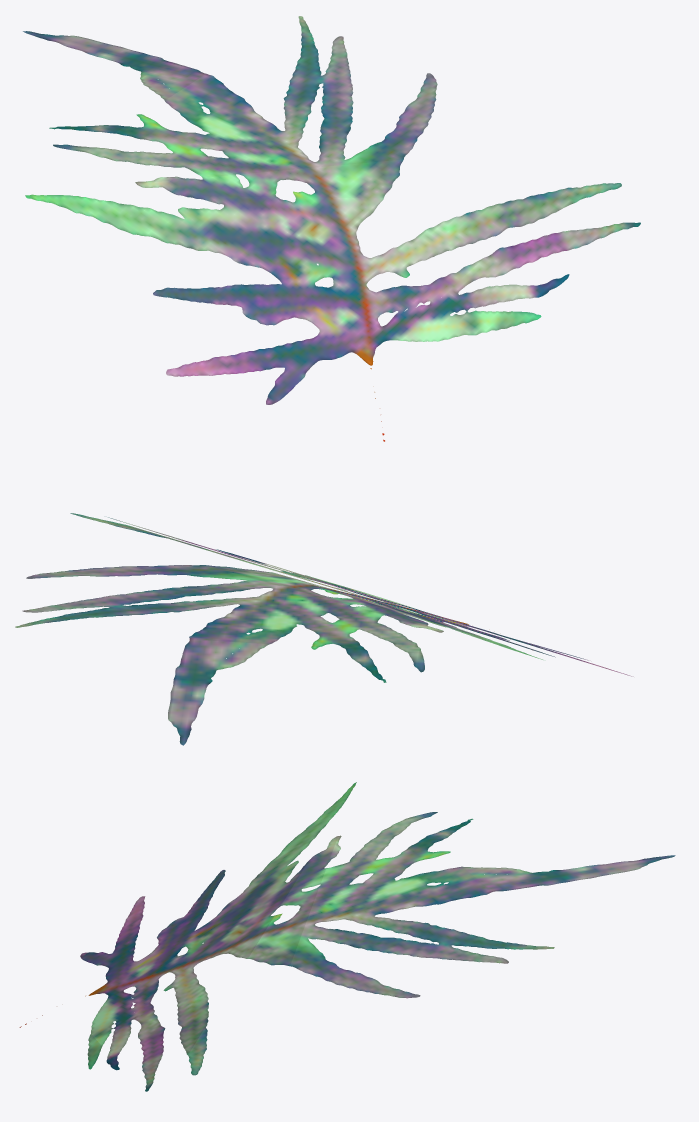
File: Painter Wort Leaf D.fbx
3 views of the same model, one above another, from view 1: azimuth 30°, elevation 25°; view 2: azimuth 150°, elevation 25°; view 3: azimuth 270°, elevation 25° (orthographic). The views are drawn at different scales.
Visible parts, largest first — view 1: Painter Wort Leaf D; view 2: Painter Wort Leaf D; view 3: Painter Wort Leaf D.
Boxes of the visible parts, x1,y1,x2,y2 form: Painter Wort Leaf D: (23, 16, 640, 441); Painter Wort Leaf D: (15, 513, 633, 745); Painter Wort Leaf D: (19, 782, 675, 1091).
Bounding box in the file's own units: 64 × 19.76 × 68.76.
